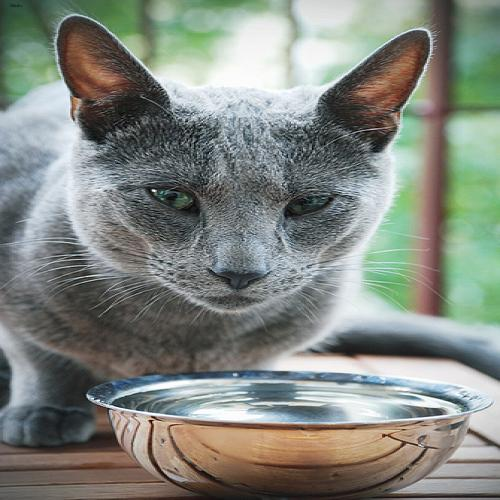rblue: (39, 1, 452, 333)
